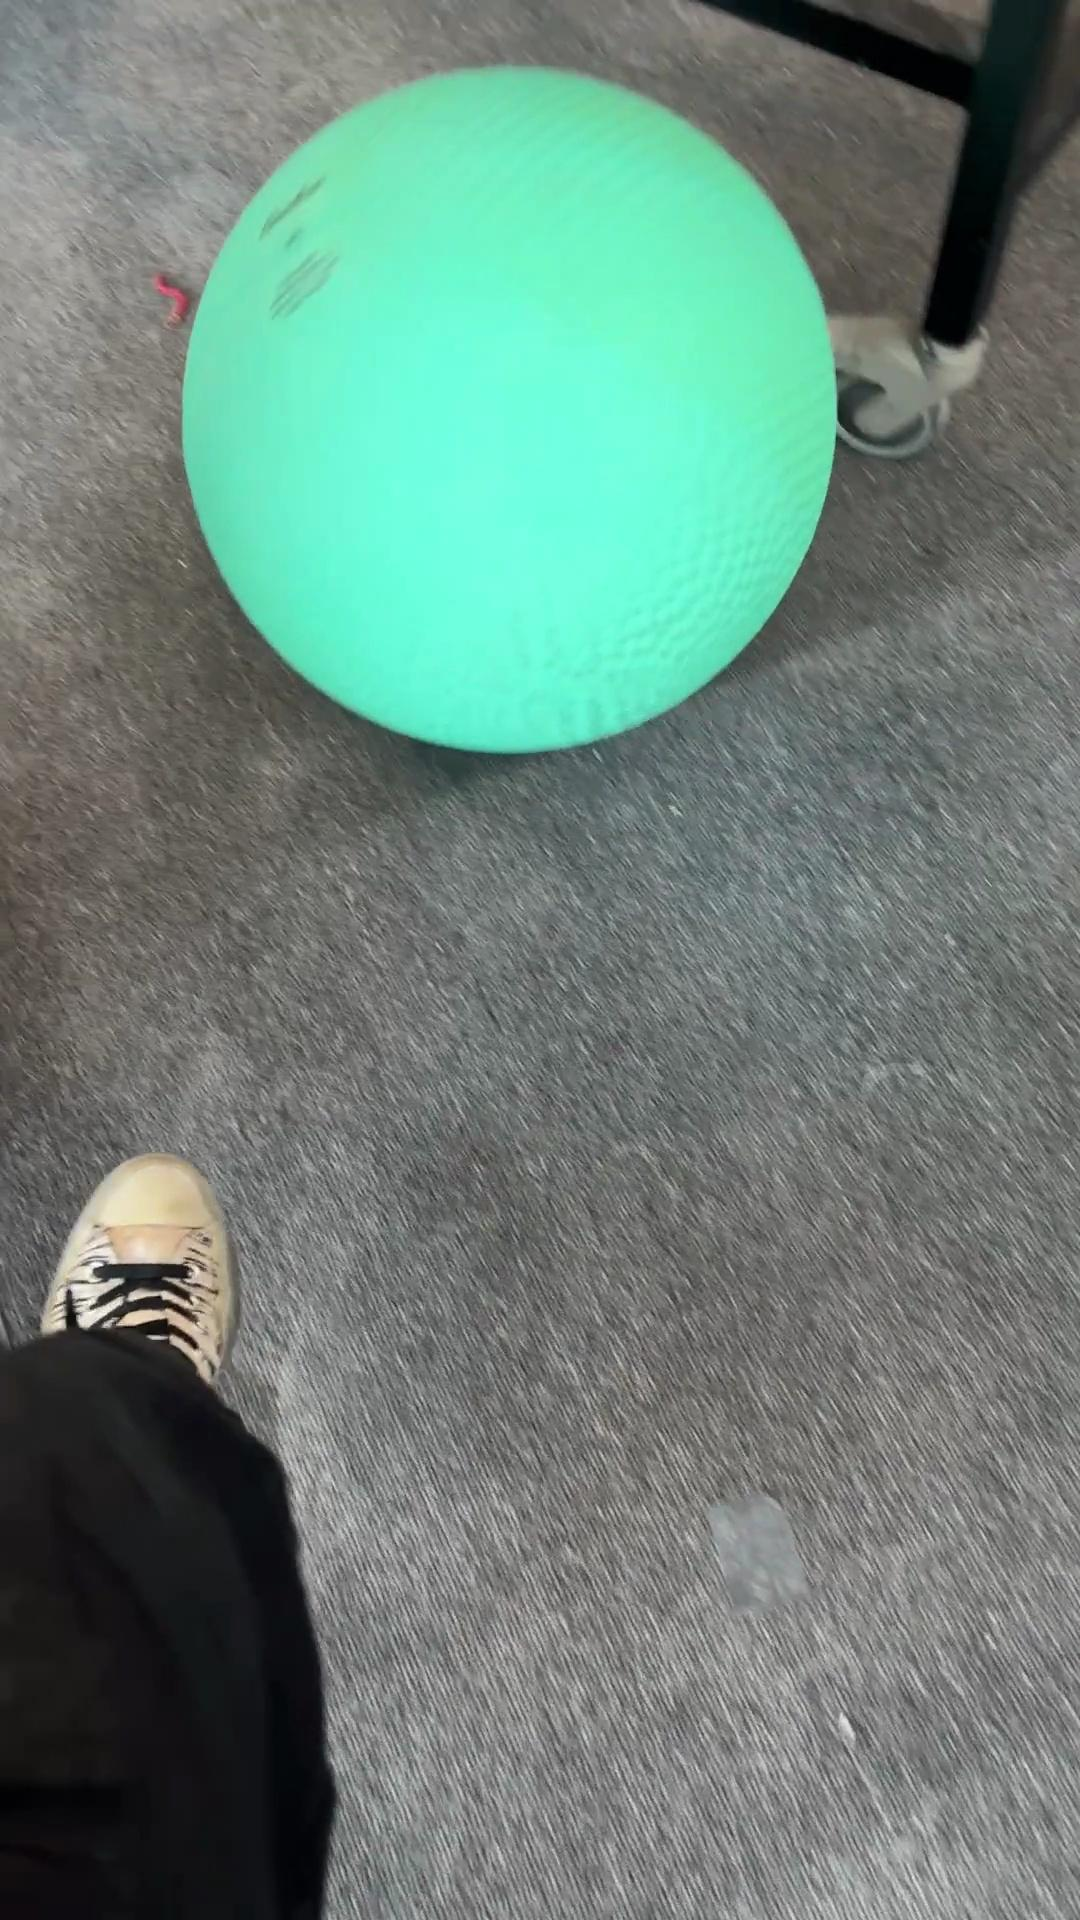ALGAE: (177, 62, 841, 756)
